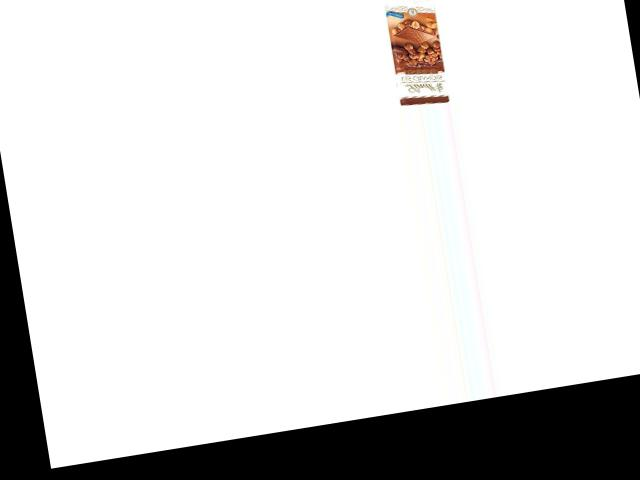chocolate: (382, 1, 456, 106)
